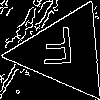F: (39, 26, 77, 74)
